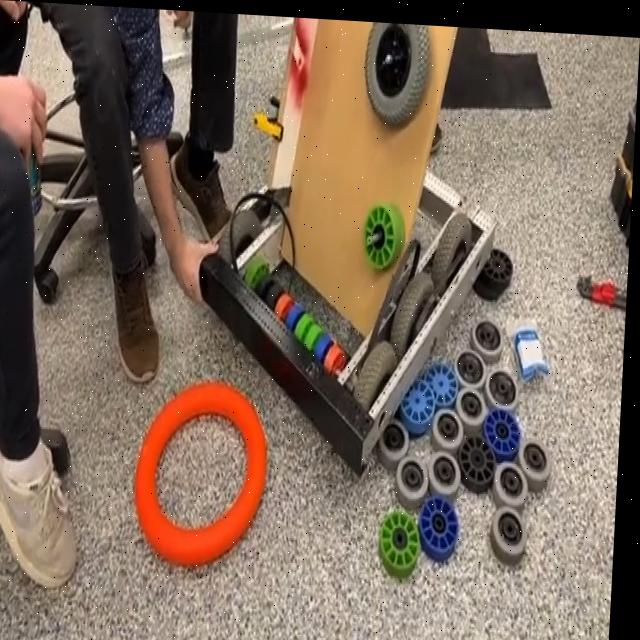note: (134, 370, 279, 572)
